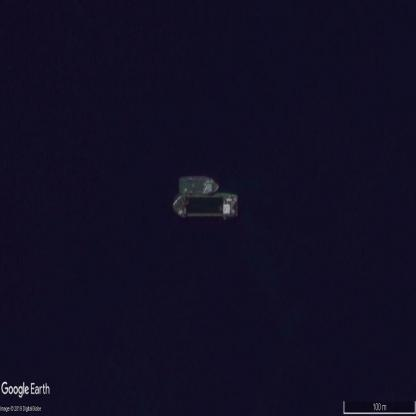ship: (175, 194, 237, 218), (178, 171, 220, 197)
